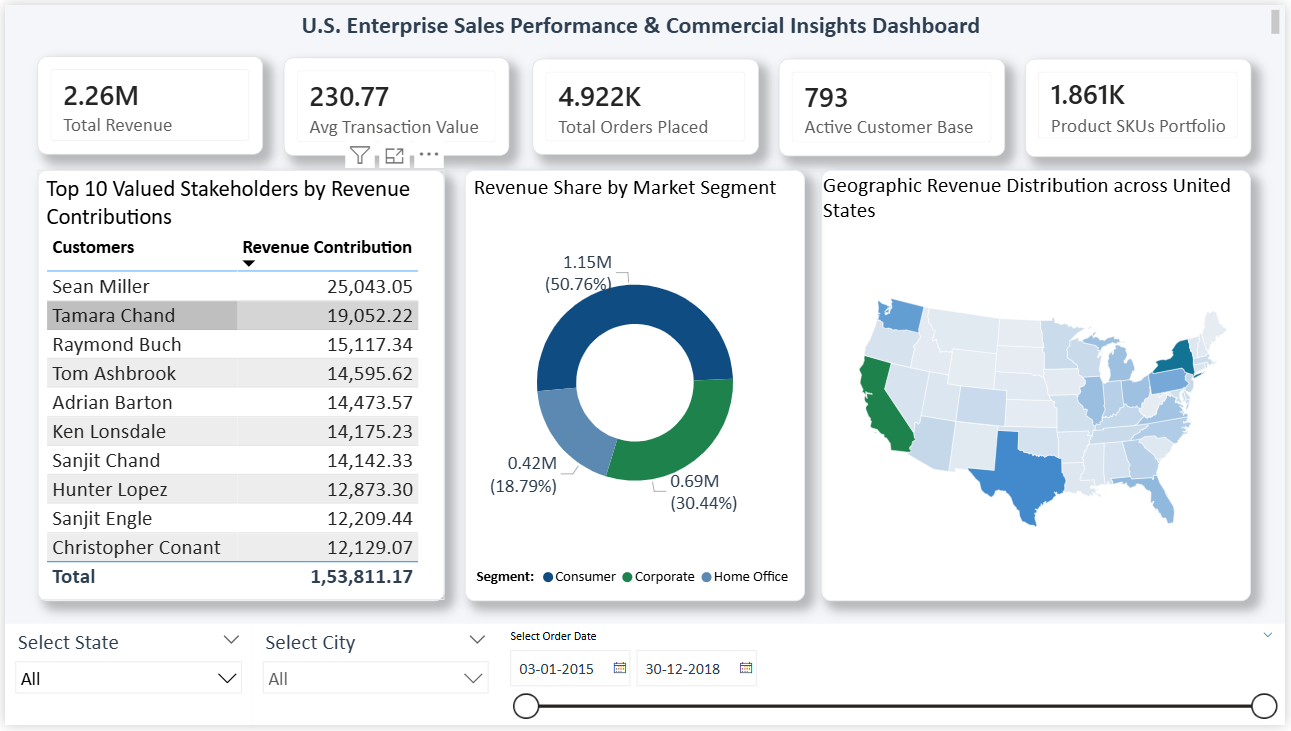

The dashboard page shown, as its layout file describes it:
{"tool":"powerbi","page":{"name":"Executive Overview","canvas":[1280,720],"ordinal":0},"visuals":[{"type":"textbox","box":[0,0,1279.4,36.8],"z":0},{"type":"slicer","fields":{"Values":["superstore_sales.State"]},"box":[0,618.6,247.1,101.4],"z":1000},{"type":"slicer","fields":{"Values":["superstore_sales.City"]},"box":[247.1,618.6,245.7,101.4],"z":2000},{"type":"slicer","fields":{"Values":["superstore_sales.Order Date"]},"box":[492.6,618.9,787.7,101.5],"z":3000},{"type":"cardVisual","fields":{"Data":["Sum(superstore_sales.Sales)"]},"box":[32.9,51.4,225.7,98.6],"z":4000},{"type":"cardVisual","fields":{"Data":["Count(superstore_sales.Order ID)"]},"box":[526.9,53.5,226.4,96.1],"z":5000},{"type":"cardVisual","fields":{"Data":["Avg(superstore_sales.Sales)"]},"box":[278.6,52.9,225.7,98.6],"z":6000},{"type":"cardVisual","fields":{"Data":["Count(superstore_sales.Product ID)"]},"box":[1019.6,53.5,226.4,98.8],"z":7000},{"type":"cardVisual","fields":{"Data":["Count(superstore_sales.Customer ID)"]},"box":[773.9,53.5,226.4,97.4],"z":8000},{"type":"shapeMap","title":"Geographic Revenue Distribution across United States ","fields":{"Category":["superstore_sales.State"],"Value":["Sum(superstore_sales.Sales)"]},"box":[816.5,164.7,429.5,430.9],"z":9000},{"type":"tableEx","title":"Top 10 Valued Stakeholders by Revenue Contributions","fields":{"Values":["superstore_sales.Customer Name","Sum(superstore_sales.Sales)"]},"box":[32.9,164.7,407.5,430.9],"z":10000},{"type":"donutChart","title":"Revenue Share by Market Segment","fields":{"Category":["superstore_sales.Segment"],"Y":["Sum(superstore_sales.Sales)"]},"box":[459.7,164.7,340.3,430.9],"z":11001}]}

Visuals, with their boxes in screenshot pixels (x1, y1, x2, y2), scaled from the page's 1280x720 canvas onto the 1291x731 screenshot:
textbox: <bbox>0, 0, 1290, 37</bbox>
slicer - superstore_sales.State: <bbox>0, 628, 249, 730</bbox>
slicer - superstore_sales.City: <bbox>249, 628, 497, 730</bbox>
slicer - superstore_sales.Order Date: <bbox>497, 628, 1290, 730</bbox>
cardVisual - Sum(superstore_sales.Sales): <bbox>33, 52, 261, 152</bbox>
cardVisual - Count(superstore_sales.Order ID): <bbox>531, 54, 760, 152</bbox>
cardVisual - Avg(superstore_sales.Sales): <bbox>281, 54, 509, 154</bbox>
cardVisual - Count(superstore_sales.Product ID): <bbox>1028, 54, 1257, 155</bbox>
cardVisual - Count(superstore_sales.Customer ID): <bbox>781, 54, 1009, 153</bbox>
"Geographic Revenue Distribution across United States " shapeMap: <bbox>824, 167, 1257, 605</bbox>
"Top 10 Valued Stakeholders by Revenue Contributions" tableEx: <bbox>33, 167, 444, 605</bbox>
"Revenue Share by Market Segment" donutChart: <bbox>464, 167, 807, 605</bbox>
